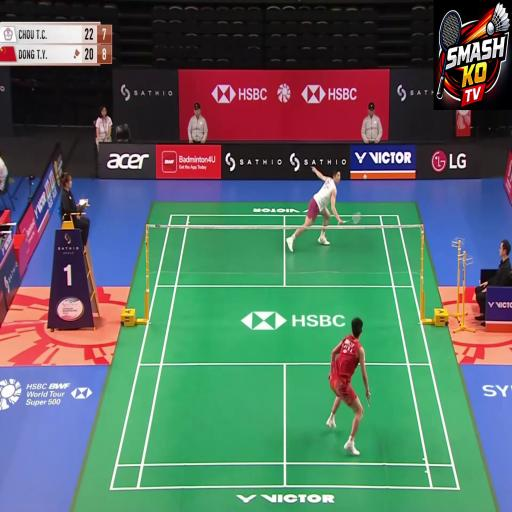player: (284, 159, 349, 272), (323, 302, 368, 463)
